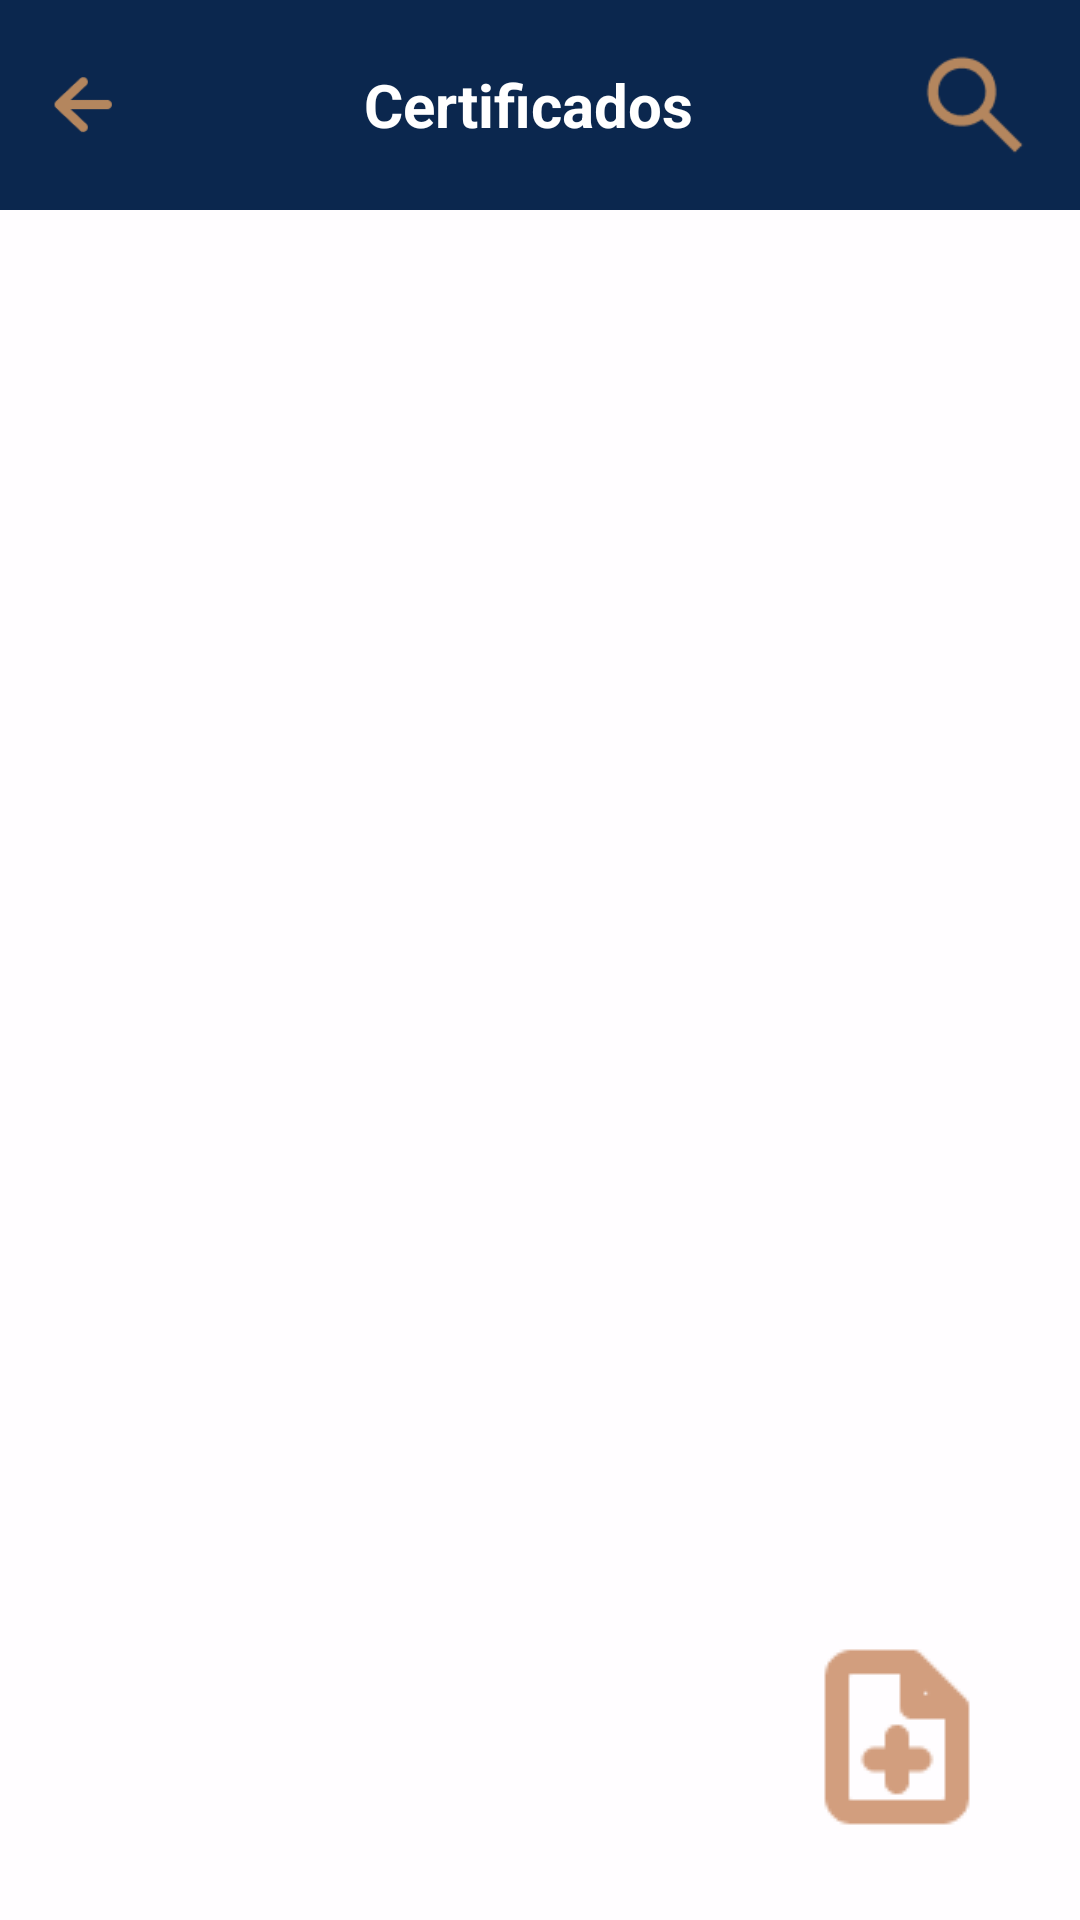

Icon bounding boxes for this 1080×1920 phone screenshot, format (x1, y1, x2, y2):
lupa: (927, 57, 1022, 152)
Novo: (824, 1649, 970, 1825)
Voltar: (54, 77, 112, 132)
